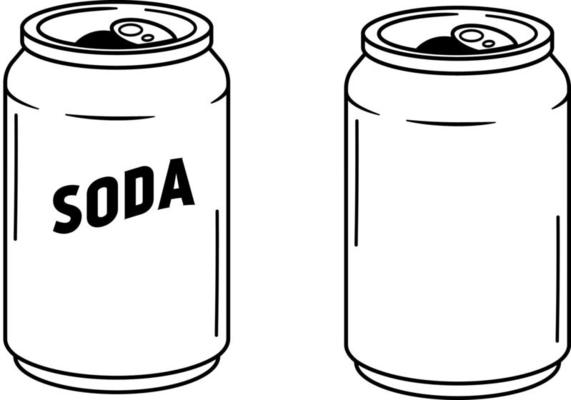can: (332, 1, 566, 398), (1, 1, 234, 398)
